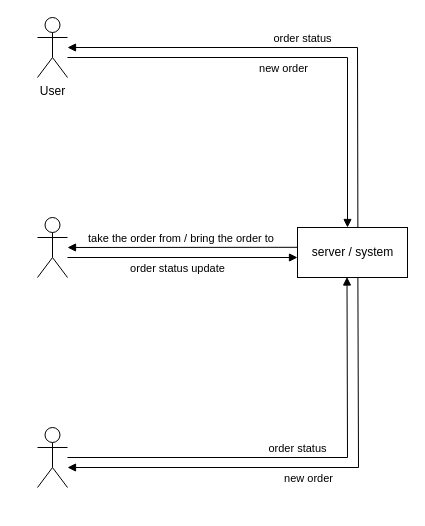
Some shapes in this 425 by 526 pixel diagram are drawn without their labels. The shapes that lost their labels are listed below. From the top down, each one's centre as x and y in pixels, then its label:
point (52, 247): Delivery man
point (52, 457): Restaurant
